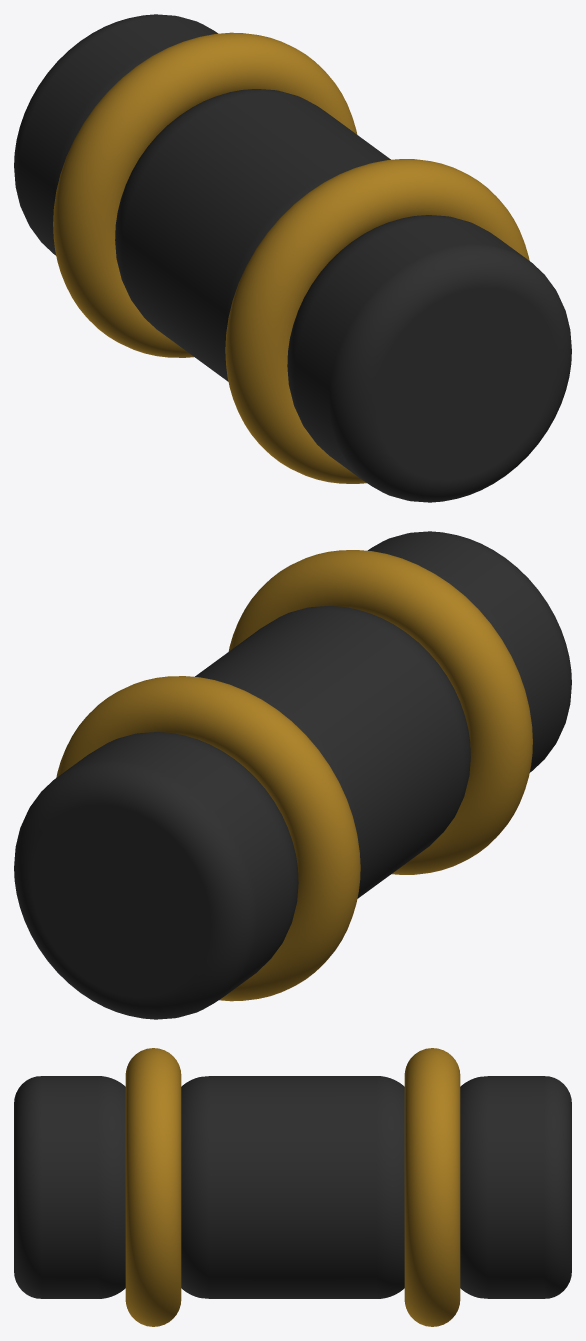
Rendered from Interior_fuel cell v2.fbx.
3 renders of one model, top to bottom at view 1: azimuth 30°, elevation 25°; view 2: azimuth 150°, elevation 25°; view 3: azimuth 270°, elevation 25°, orthographic. The views are drawn at different scales.
Parts seen in each view (by area): view 1: Body1, Body3, Body2; view 2: Body1, Body2, Body3; view 3: Body1, Body2, Body3.
Part boxes in pixels (bbox=[...]): Body1: bbox=[14, 14, 571, 502]; Body3: bbox=[53, 32, 357, 357]; Body2: bbox=[225, 159, 529, 483]; Body1: bbox=[14, 531, 571, 1019]; Body2: bbox=[228, 550, 532, 874]; Body3: bbox=[56, 676, 360, 1001]; Body1: bbox=[14, 1076, 571, 1298]; Body2: bbox=[125, 1048, 181, 1326]; Body3: bbox=[404, 1048, 460, 1326].
Bounding box in the file's own units: 5 × 5 × 10.
